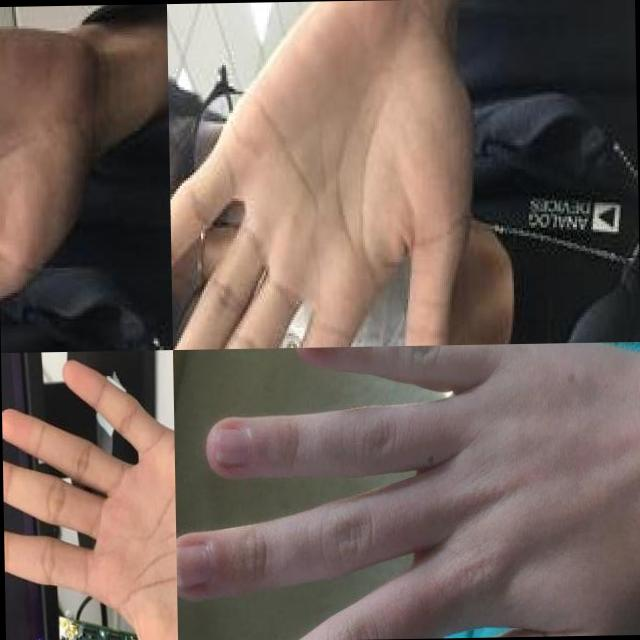Nail: (176, 542, 209, 589), (216, 426, 250, 465)
